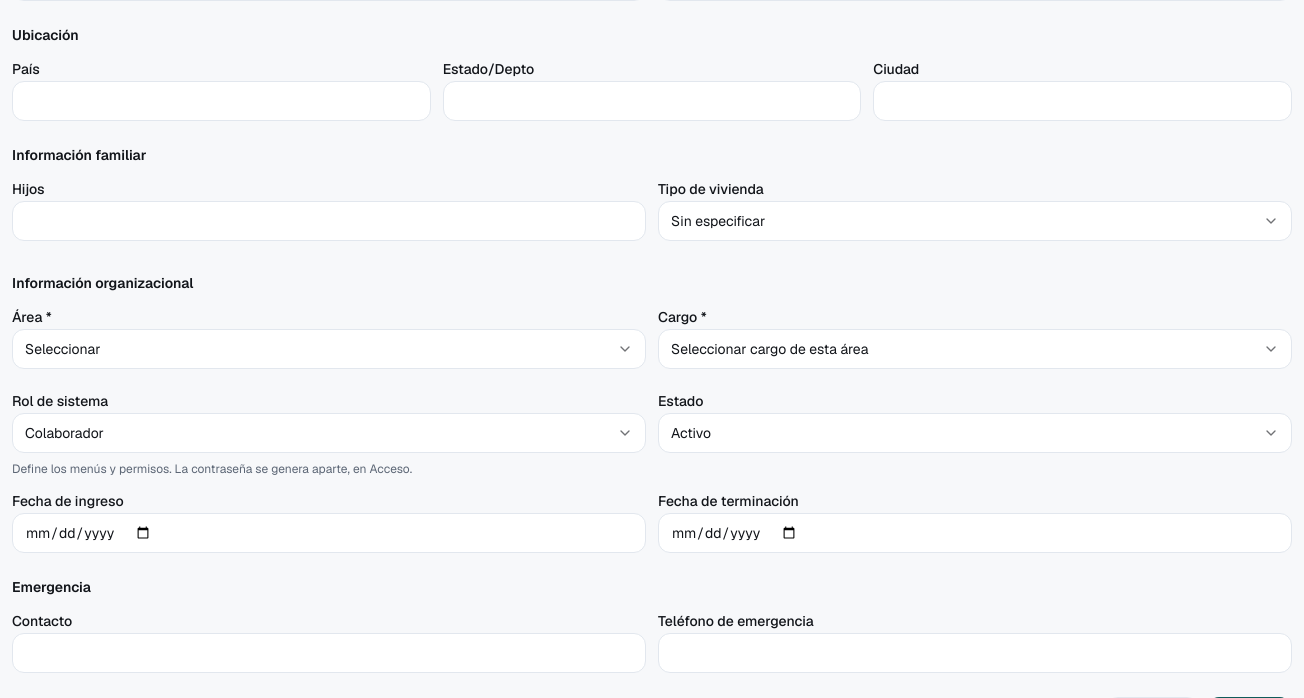
Test: EmployeeForm area selector › lists areas that have no business unit
(page scrolled)
Click the dropdown with id "emp-area" at (63, 349), box [12,329,646,369]
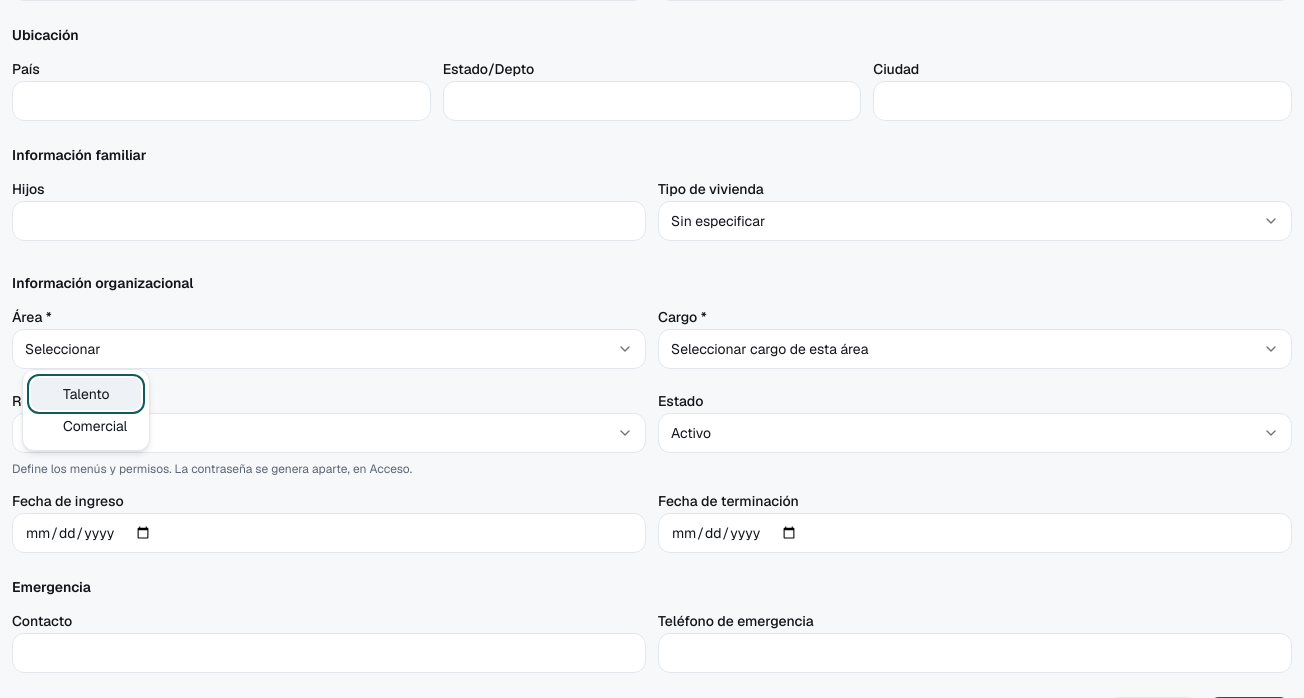
Result: the option "Talento" is shown at [31,378,141,410]
Result: the option "Comercial" is shown at [63,417,127,435]
